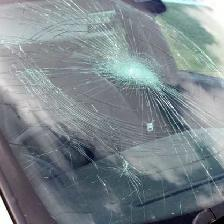glass_shatter: (46, 9, 197, 126)
